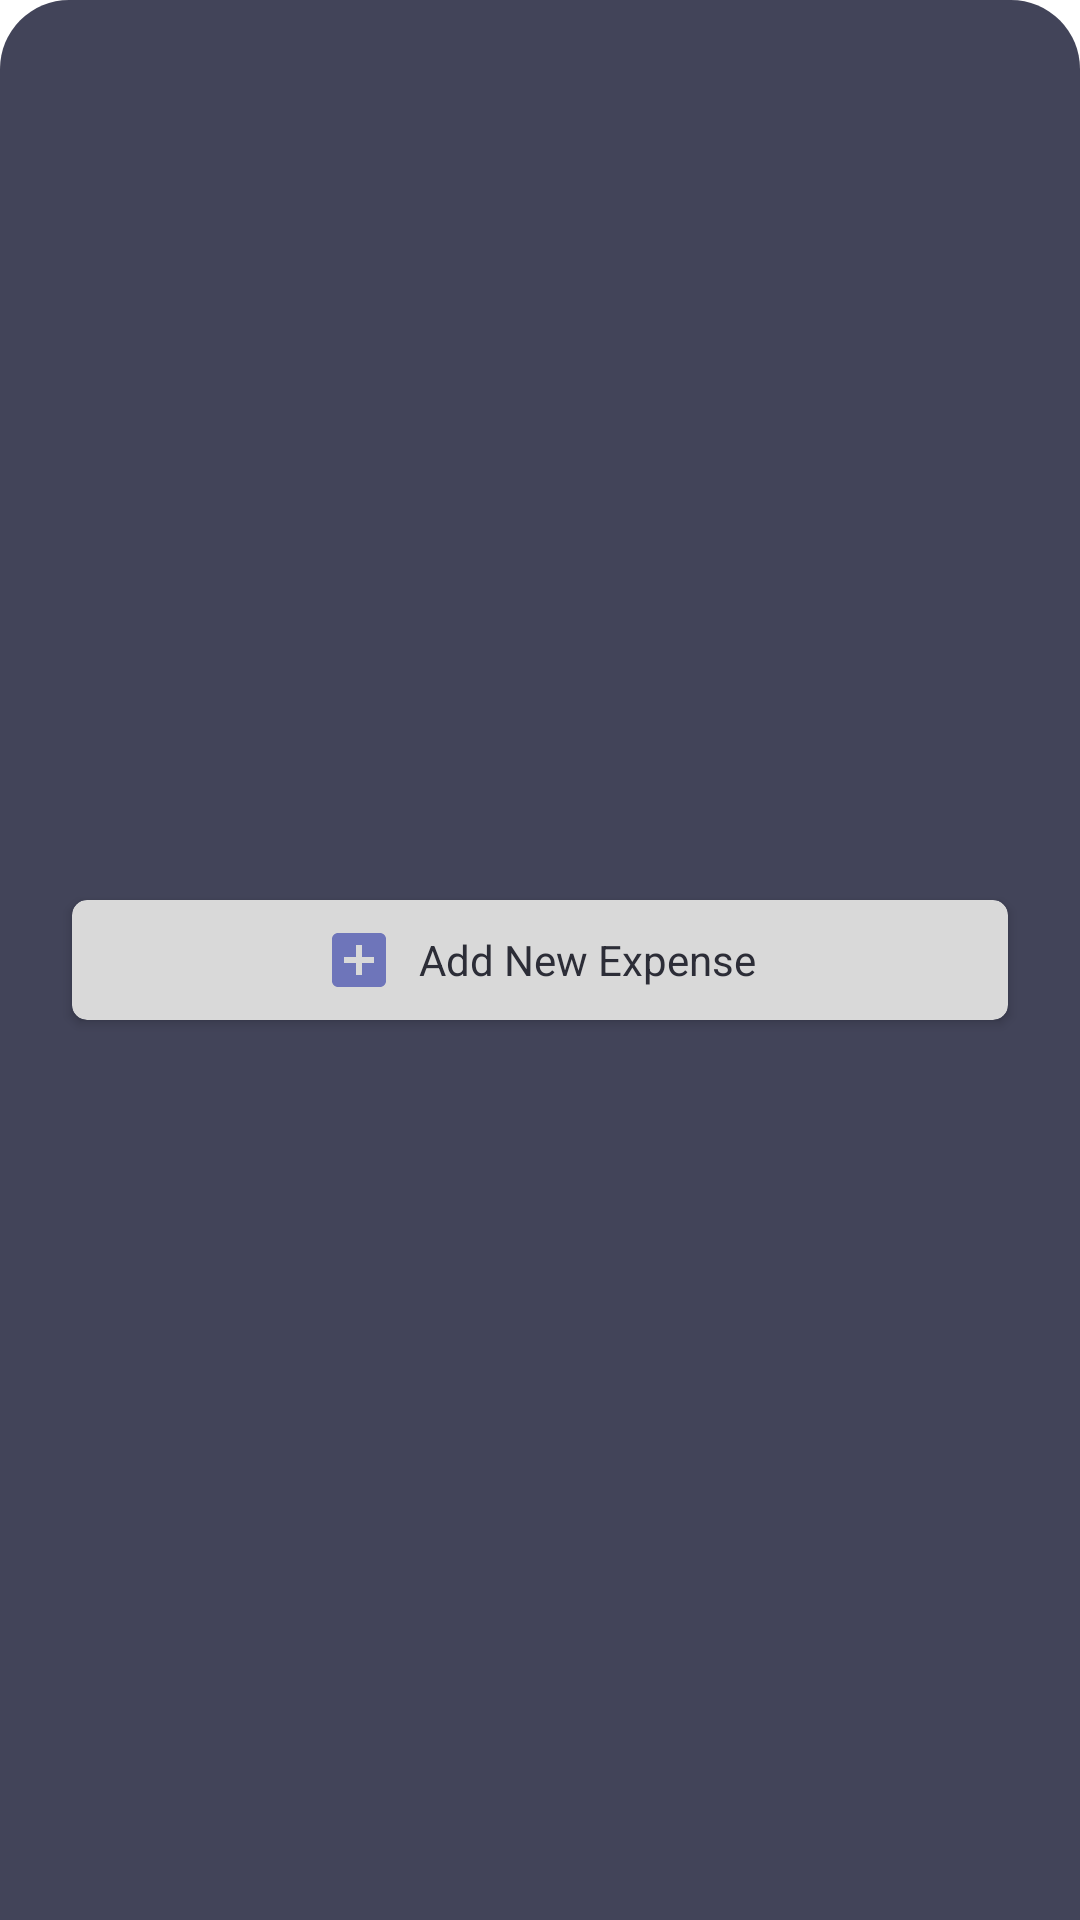

Named icons in this screenshot (1080×1920) and their centers, (x=x, y=y):
plus: (x=359, y=960)
